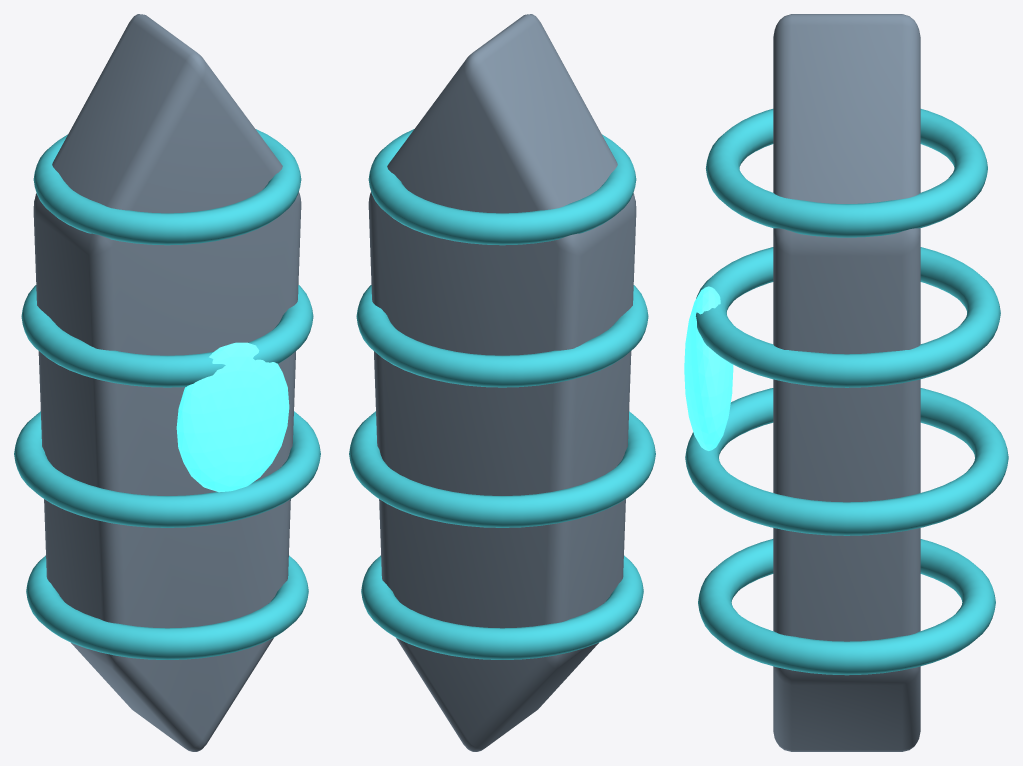
File: construct_v8.glb
3 renders of one model, left to right at view 1: azimuth 30°, elevation 25°; view 2: azimuth 150°, elevation 25°; view 3: azimuth 270°, elevation 25°, orthographic. The views are drawn at different scales.
Parts seen in each view (by area): view 1: OBELISK_PRIMARY, OBELISK_CORE_EMISSIVE, OBELISK_RING_ACCENT.001, OBELISK_RING_ACCENT, OBELISK_RING_ACCENT.003, OBELISK_RING_ACCENT.002; view 2: OBELISK_PRIMARY, OBELISK_RING_ACCENT.001, OBELISK_RING_ACCENT.002, OBELISK_RING_ACCENT, OBELISK_RING_ACCENT.003; view 3: OBELISK_PRIMARY, OBELISK_RING_ACCENT.001, OBELISK_RING_ACCENT.002, OBELISK_RING_ACCENT, OBELISK_RING_ACCENT.003, OBELISK_CORE_EMISSIVE.
Boxes of the visible parts, x1,y1,x2,y2 form: OBELISK_PRIMARY: [33, 14, 301, 751]; OBELISK_CORE_EMISSIVE: [176, 342, 289, 492]; OBELISK_RING_ACCENT.001: [14, 411, 320, 527]; OBELISK_RING_ACCENT: [26, 555, 308, 659]; OBELISK_RING_ACCENT.003: [33, 129, 301, 245]; OBELISK_RING_ACCENT.002: [21, 285, 313, 387]; OBELISK_PRIMARY: [368, 14, 636, 751]; OBELISK_RING_ACCENT.001: [349, 411, 655, 527]; OBELISK_RING_ACCENT.002: [356, 285, 648, 387]; OBELISK_RING_ACCENT: [361, 555, 643, 659]; OBELISK_RING_ACCENT.003: [368, 129, 636, 245]; OBELISK_PRIMARY: [773, 14, 920, 751]; OBELISK_RING_ACCENT.001: [685, 388, 1008, 535]; OBELISK_RING_ACCENT.002: [696, 247, 1000, 387]; OBELISK_RING_ACCENT: [698, 539, 995, 675]; OBELISK_RING_ACCENT.003: [705, 109, 987, 237]; OBELISK_CORE_EMISSIVE: [684, 286, 733, 450].
Size of the model in its own units: 1.05 by 2.65 by 1.06.
